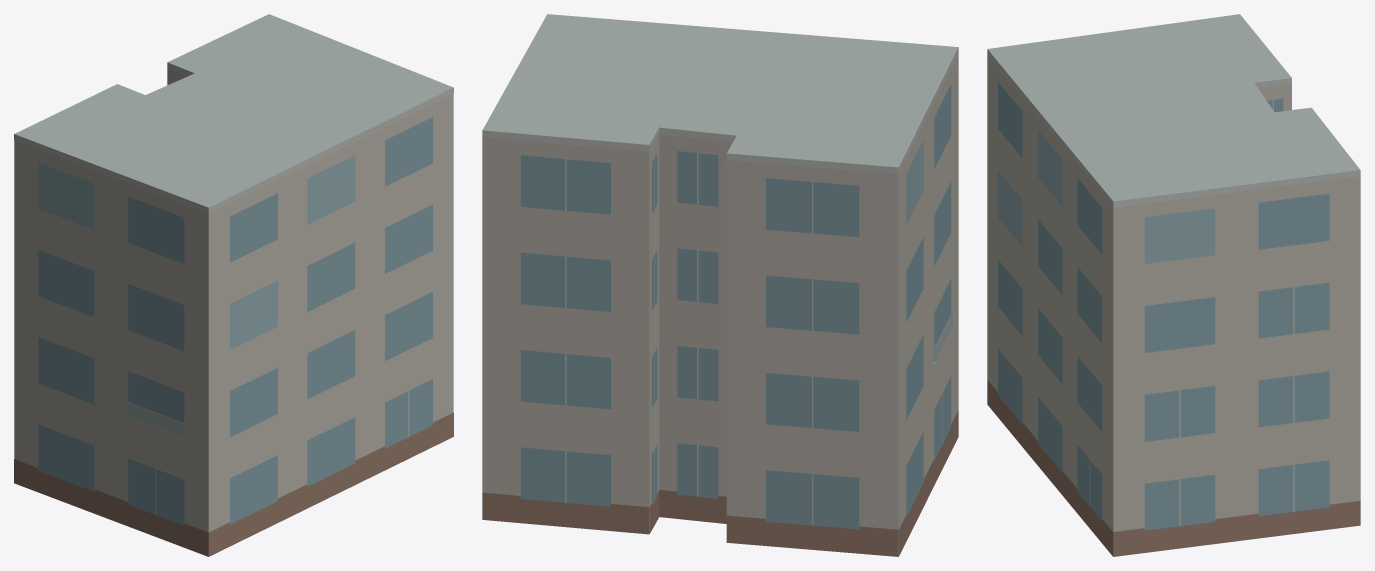
File: survey-upis-33044059.glb
3 views of the same model, side by side, from view 1: azimuth 30°, elevation 25°; view 2: azimuth 150°, elevation 25°; view 3: azimuth 270°, elevation 25° (orthographic). The views are drawn at different scales.
Parts seen in each view (by area): view 1: survey-upis-33044059.tmp; view 2: survey-upis-33044059.tmp; view 3: survey-upis-33044059.tmp.
Part boxes in pixels (x1,y1,x2,y2): survey-upis-33044059.tmp: (14, 14, 453, 556); survey-upis-33044059.tmp: (482, 14, 958, 556); survey-upis-33044059.tmp: (987, 14, 1360, 556).
Size of the model in its own units: 15.73 by 13.9 by 13.24.
